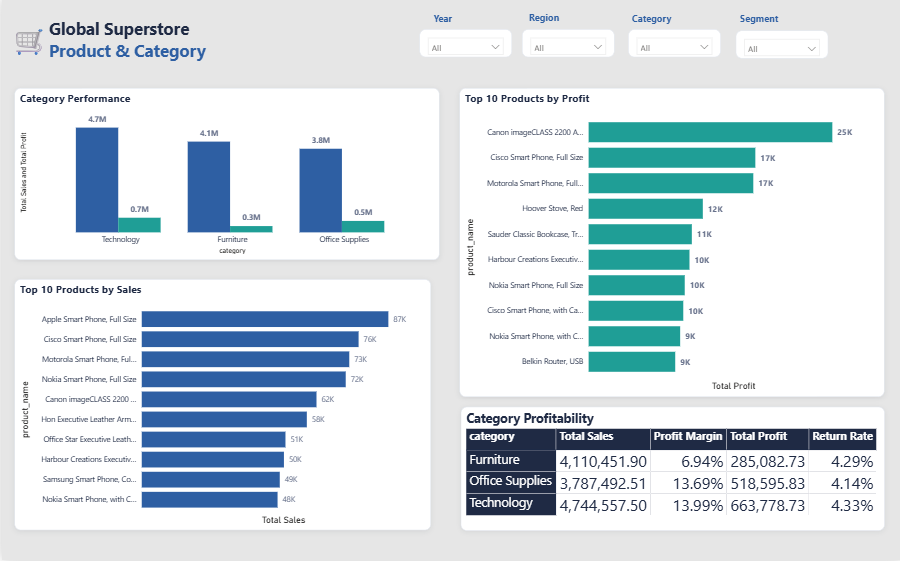

This screenshot's page, from the dashboard's own definition file:
{"tool":"powerbi","page":{"name":"02 Product & Category","canvas":[1440,900],"ordinal":1},"visuals":[{"type":"textbox","box":[70,25,661.7,128.3],"z":0},{"type":"slicer","fields":{"Values":["public dim_geography.region"]},"box":[831.7,50,148.3,45],"z":1000},{"type":"slicer","fields":{"Values":["public dim_product.category"]},"box":[1001.7,50,148.3,45],"z":2000},{"type":"slicer","fields":{"Values":["public dim_customer.segment"]},"box":[1173.3,51.7,148.3,45],"z":3000},{"type":"slicer","fields":{"Values":["public dim_geography.region"]},"box":[668.3,50,148.3,45],"z":4000},{"type":"textbox","box":[668.3,18.3,75,41.7],"z":5000},{"type":"textbox","box":[1001.7,18.3,75,41.7],"z":6000},{"type":"textbox","box":[830,16.7,75,41.7],"z":7000},{"type":"textbox","box":[1173.3,18.3,75,41.7],"z":8000},{"type":"clusteredColumnChart","title":"Category Performance","fields":{"Category":["public dim_product.category"],"Y":["public fact_order_lines.Total Sales","public bridge_returns.Total Profit"]},"box":[20,143.3,680,275],"z":9000},{"type":"barChart","title":"Top 10 Products by Sales","fields":{"Category":["public dim_product.product_name"],"Y":["public fact_order_lines.Total Sales"]},"box":[20,450,666.7,401.7],"z":10000},{"type":"barChart","title":"Top 10 Products by Profit","fields":{"Category":["public dim_product.product_name"],"Y":["public bridge_returns.Total Profit"]},"box":[731.7,143.3,660,495],"z":11000},{"type":"pivotTable","title":"Category Profitability","fields":{"Rows":["public dim_product.category"],"Values":["public fact_order_lines.Total Sales","public bridge_returns.Profit Margin","public bridge_returns.Total Profit","public fact_order_lines.Return Rate"]},"box":[735,655,586.7,196.7],"z":12000},{"type":"textbox","box":[0,33.2,86,78.4],"z":13000}]}

Visuals, with their boxes in screenshot pixels (x1, y1, x2, y2), scaled from the page's 1440x900 canvas onto the 900x561 screenshot:
textbox: [x1=44, y1=16, x2=457, y2=96]
slicer - public dim_geography.region: [x1=520, y1=31, x2=612, y2=59]
slicer - public dim_product.category: [x1=626, y1=31, x2=719, y2=59]
slicer - public dim_customer.segment: [x1=733, y1=32, x2=826, y2=60]
slicer - public dim_geography.region: [x1=418, y1=31, x2=510, y2=59]
textbox: [x1=418, y1=11, x2=465, y2=37]
textbox: [x1=626, y1=11, x2=673, y2=37]
textbox: [x1=519, y1=10, x2=566, y2=36]
textbox: [x1=733, y1=11, x2=780, y2=37]
"Category Performance" clusteredColumnChart: [x1=12, y1=89, x2=438, y2=261]
"Top 10 Products by Sales" barChart: [x1=12, y1=280, x2=429, y2=531]
"Top 10 Products by Profit" barChart: [x1=457, y1=89, x2=870, y2=398]
"Category Profitability" pivotTable: [x1=459, y1=408, x2=826, y2=531]
textbox: [x1=0, y1=21, x2=54, y2=70]
